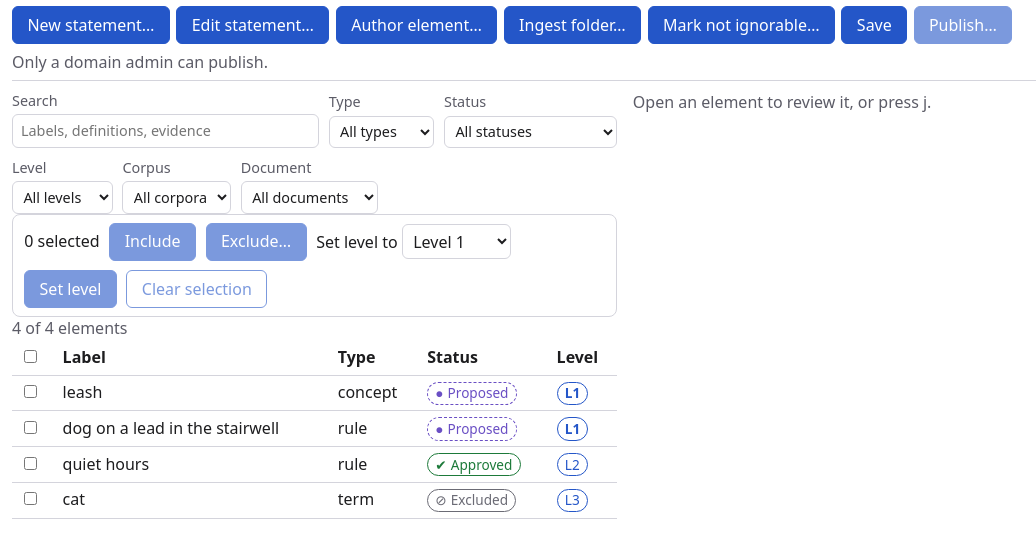
Test case: ReviewScreen › search_lead_matches_labels_and_evidence
The width and height of the screenshot is (1036, 536).
Expected: the button "leash" is shown, left=63, top=381, right=102, bottom=405
Type "LEAD" into the search field labelled "Search" at (166, 131), box left=12, top=114, right=319, bottom=148
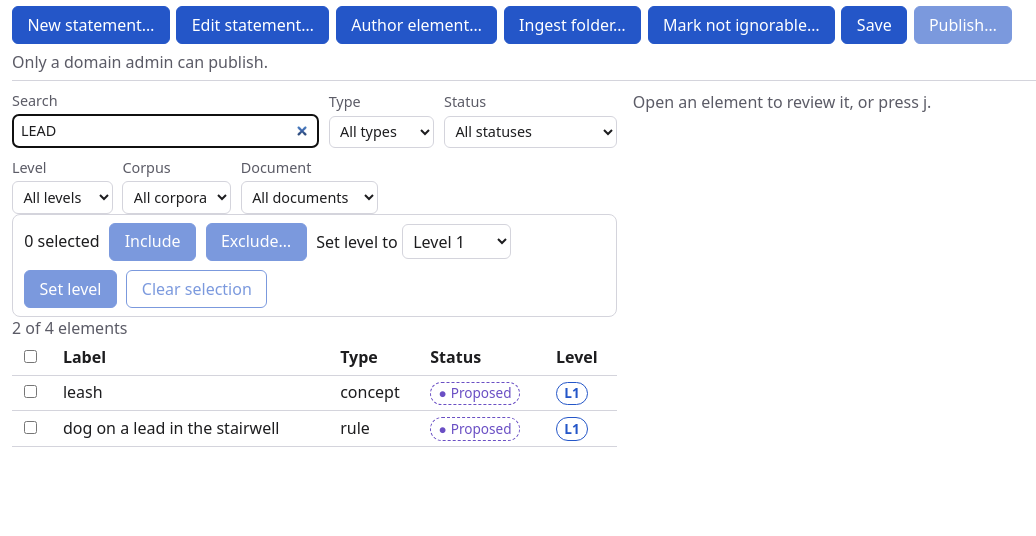
Result: the text "2 of 4 elements" is shown at left=12, top=317, right=128, bottom=339
